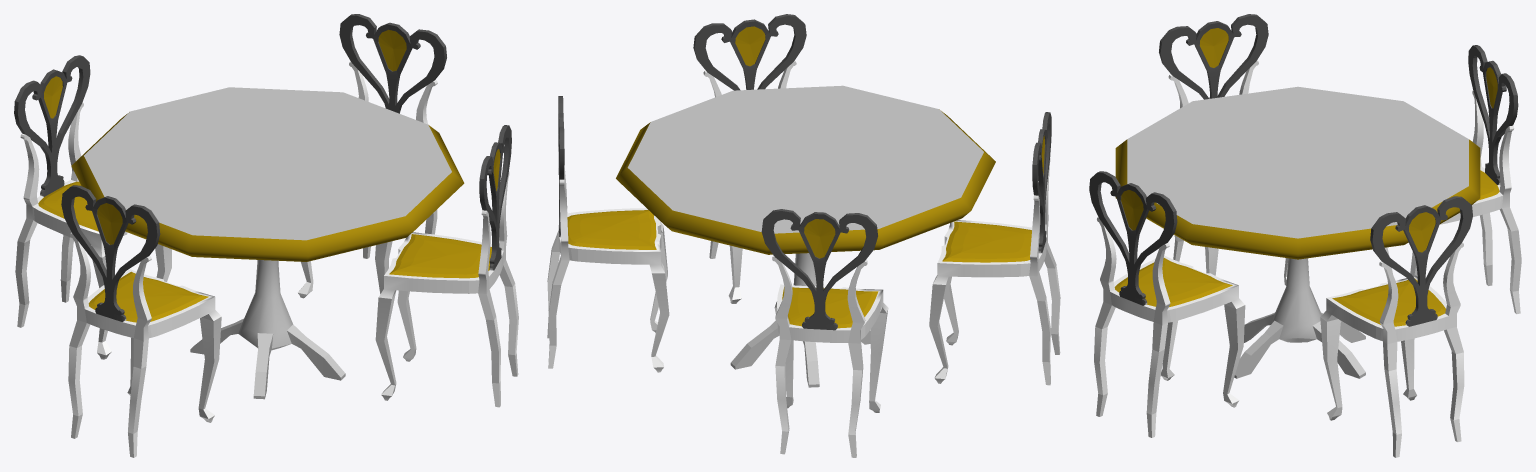
The model's file is GardenSet.fbx.
The picture shows the model from 3 angles, left to right: view 1: azimuth 30°, elevation 25°; view 2: azimuth 150°, elevation 25°; view 3: azimuth 270°, elevation 25°; orthographic projection. The views are drawn at different scales.
Visible parts, largest first — view 1: pCylinder28, HeartChair2, HeartChair1, HeartChair, HeartChair3; view 2: pCylinder28, HeartChair, HeartChair2, HeartChair3, HeartChair1; view 3: pCylinder28, HeartChair3, HeartChair1, HeartChair, HeartChair2.
Boxes of the visible parts, x1,y1,x2,y2 form: pCylinder28: (71, 87, 464, 399); HeartChair2: (61, 185, 221, 457); HeartChair1: (375, 125, 518, 407); HeartChair: (14, 55, 171, 359); HeartChair3: (297, 14, 446, 311); pCylinder28: (616, 85, 995, 387); HeartChair: (761, 209, 888, 457); HeartChair2: (929, 112, 1060, 385); HeartChair3: (547, 96, 669, 372); HeartChair1: (693, 14, 825, 303); pCylinder28: (1115, 86, 1480, 378); HeartChair3: (1320, 196, 1472, 457); HeartChair1: (1089, 171, 1245, 437); HeartChair: (1384, 45, 1521, 314); HeartChair2: (1159, 14, 1287, 285).
Bounding box in the file's own units: 2.59 × 1.39 × 2.26.
